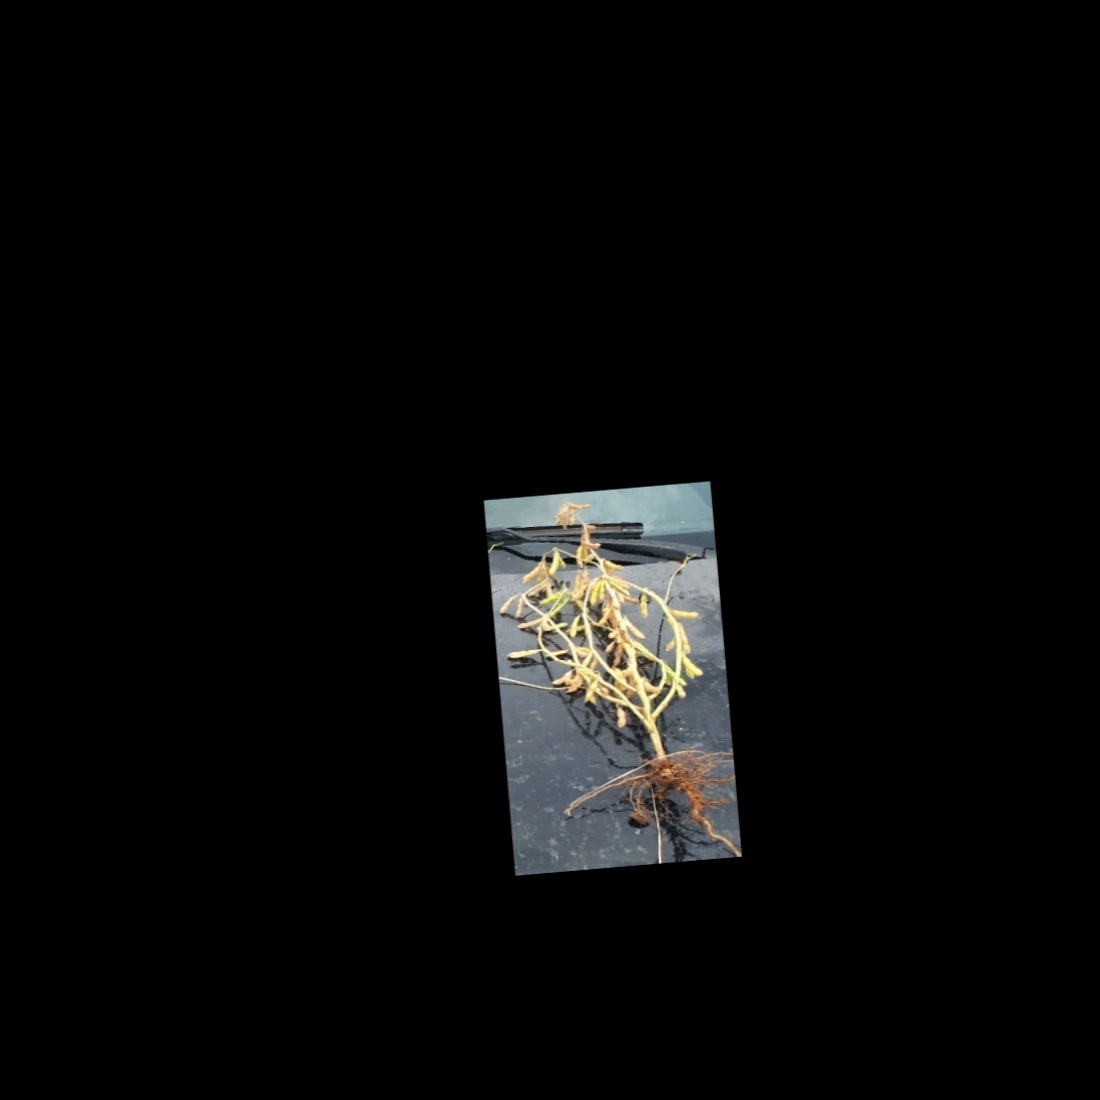pod: (681, 652, 706, 679), (506, 646, 541, 661), (624, 614, 645, 639), (669, 605, 701, 621), (611, 704, 629, 730), (512, 594, 528, 618), (547, 549, 561, 576), (603, 557, 627, 573)
soy: (484, 488, 729, 865)
